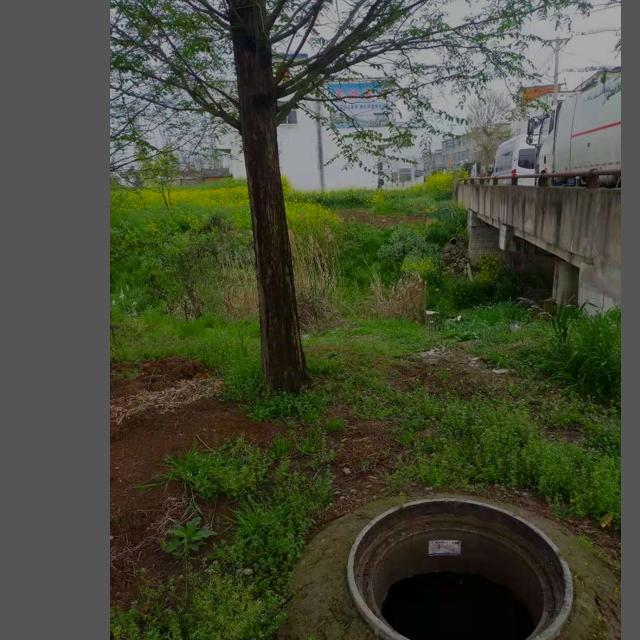lose: (329, 495, 583, 640)
